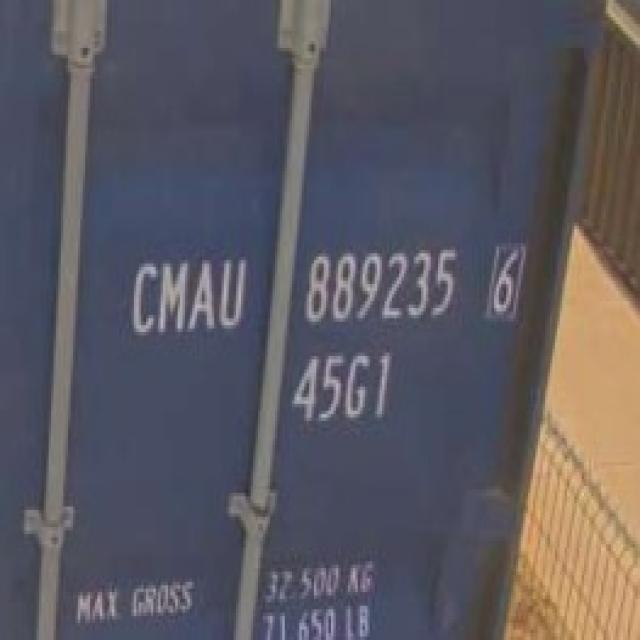dv: (483, 237, 527, 330)
owner: (125, 251, 253, 339)
serial: (298, 240, 463, 328)
size: (285, 346, 395, 429)
